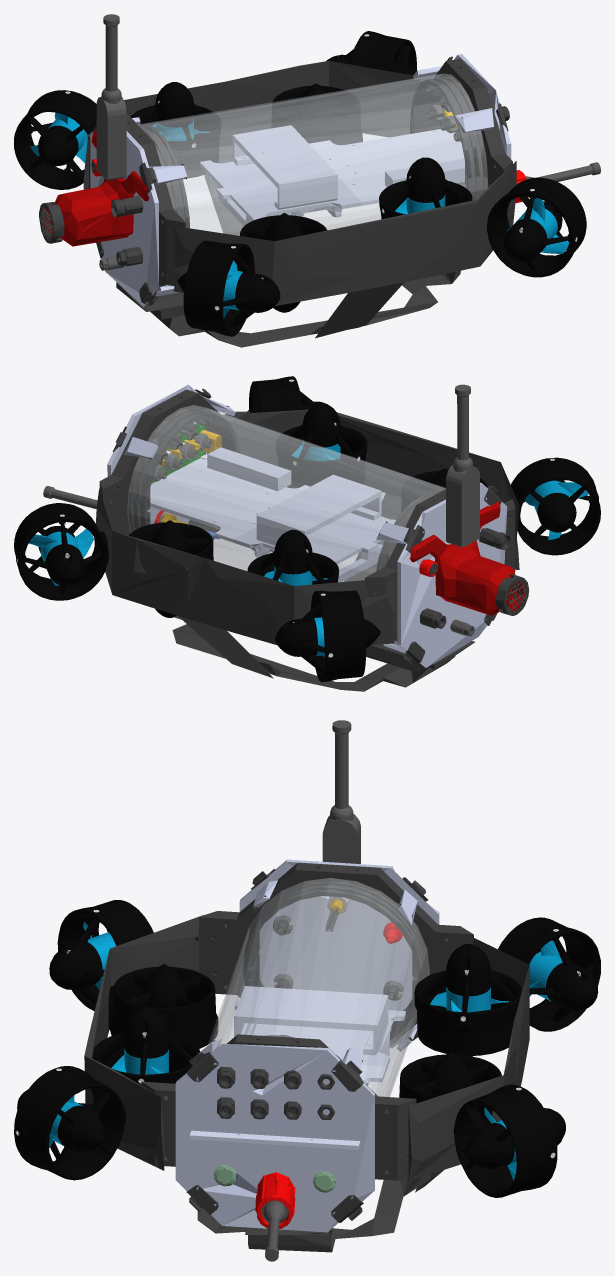
Rendered from mini-auv.glb.
3 renders of one model, top to bottom at view 1: azimuth 30°, elevation 25°; view 2: azimuth 150°, elevation 25°; view 3: azimuth 270°, elevation 25°, orthographic. The views are drawn at different scales.
Visible parts, largest first — view 1: Hull & end caps, Frame, Thrusters, Electronics trays, rotor_5, rotor_1, rotor_7, rotor_0, rotor_6; view 2: Hull & end caps, Thrusters, Frame, Electronics trays, rotor_2, rotor_7, rotor_6, rotor_0; view 3: Hull & end caps, Thrusters, Frame, Electronics trays, rotor_1, rotor_0, rotor_6.
Boxes of the visible parts, box(x1,y1,x2,y2) form: Hull & end caps: box(39, 14, 600, 306); Frame: box(83, 61, 516, 347); Thrusters: box(14, 31, 586, 336); Electronics trays: box(200, 111, 464, 226); rotor_5: box(507, 198, 569, 253); rotor_1: box(30, 112, 87, 163); rotor_7: box(223, 260, 242, 318); rotor_0: box(152, 120, 209, 140); rotor_6: box(395, 194, 445, 214); Hull & end caps: box(43, 384, 529, 667); Thrusters: box(14, 376, 600, 682); Frame: box(96, 409, 519, 691); Electronics trays: box(150, 424, 395, 582); rotor_2: box(29, 529, 93, 585); rotor_7: box(524, 480, 588, 539); rotor_6: box(291, 439, 340, 460); rotor_0: box(264, 566, 327, 585); Hull & end caps: box(141, 720, 473, 1261); Thrusters: box(14, 900, 600, 1197); Frame: box(84, 915, 529, 1252); Electronics trays: box(189, 986, 405, 1149); rotor_1: box(529, 940, 562, 1001); rotor_0: box(430, 987, 508, 1012); rotor_6: box(111, 1049, 168, 1074).
Bounding box in the file's own units: 0.6171 × 0.3528 × 0.5259.
